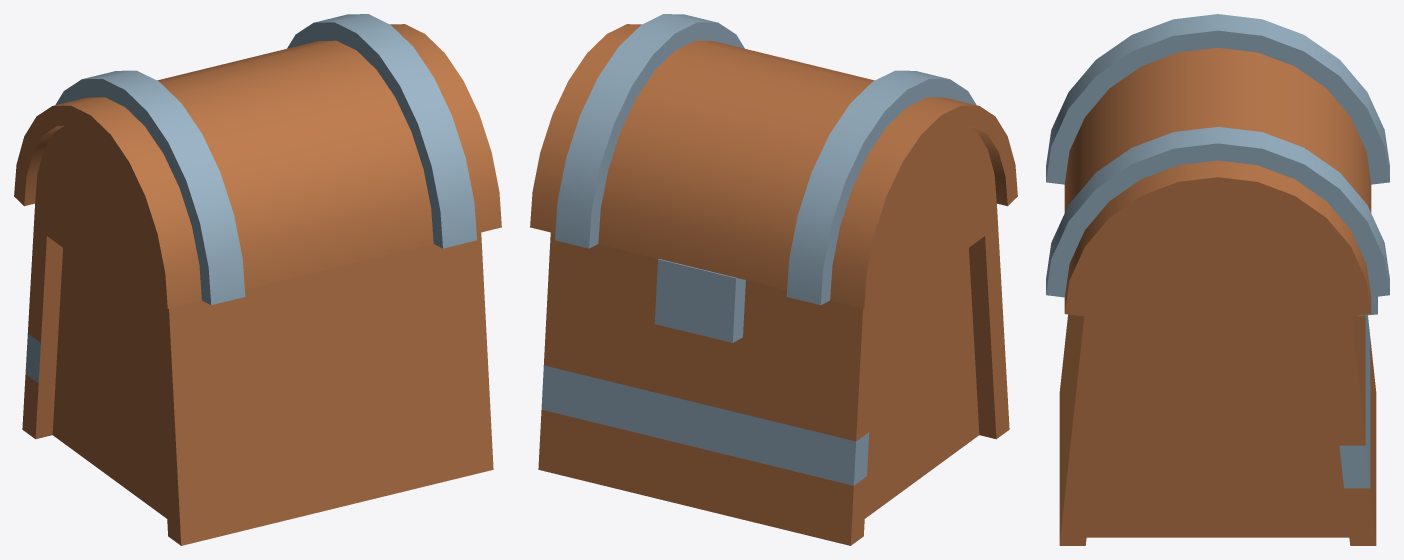
Rendered from d_kenney_coffre_pirate.glb.
The picture shows the model from 3 angles, left to right: view 1: azimuth 30°, elevation 25°; view 2: azimuth 150°, elevation 25°; view 3: azimuth 270°, elevation 25°; orthographic projection.
Parts seen in each view (by area): view 1: d_kenney_coffre_pirate; view 2: d_kenney_coffre_pirate; view 3: d_kenney_coffre_pirate.
Part boxes in pixels (x1,y1,x2,y2): d_kenney_coffre_pirate: (14,14,501,545); d_kenney_coffre_pirate: (530,14,1017,545); d_kenney_coffre_pirate: (1046,14,1389,545).
Bounding box in the file's own units: 0.4896 × 0.5492 × 0.4375.
1 material, 1 textured.
